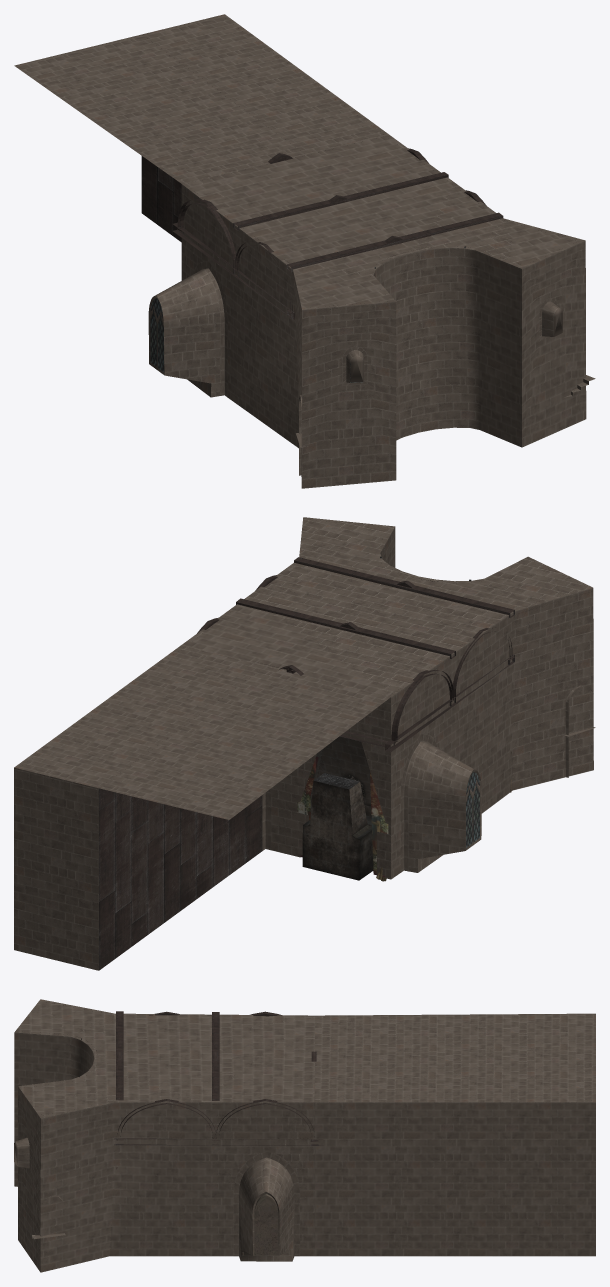
Rendered from gryffindor_common_room.glb.
3 renders of one model, top to bottom at view 1: azimuth 30°, elevation 25°; view 2: azimuth 150°, elevation 25°; view 3: azimuth 270°, elevation 25°, orthographic. The views are drawn at different scales.
Parts seen in each view (by area): view 1: walls_mesh, supportbeams_mesh, woodfloor_mesh, windows_mesh; view 2: walls_mesh, woodfloor_mesh, fireplace_mesh_pk_gryffindorcommonroom_atlas_02_unlit_mat #2, supportbeams_mesh, tapestries_mesh, windows_mesh; view 3: walls_mesh, supportbeams_mesh.
Boxes of the visible parts, x1,y1,x2,y2 form: walls_mesh: [14, 14, 595, 488]; supportbeams_mesh: [173, 148, 503, 319]; woodfloor_mesh: [141, 156, 457, 427]; windows_mesh: [150, 298, 554, 382]; walls_mesh: [14, 517, 595, 970]; woodfloor_mesh: [99, 788, 262, 970]; fireplace_mesh_pk_gryffindorcommonroom_atlas_02_unlit_mat #2: [297, 736, 387, 880]; supportbeams_mesh: [197, 538, 514, 752]; tapestries_mesh: [297, 756, 388, 877]; windows_mesh: [466, 772, 480, 847]; walls_mesh: [14, 999, 595, 1272]; supportbeams_mesh: [96, 1011, 322, 1145].
Bounding box in the file's own units: 0.1627 × 0.0945 × 0.3024.
13 materials, 12 textured.
